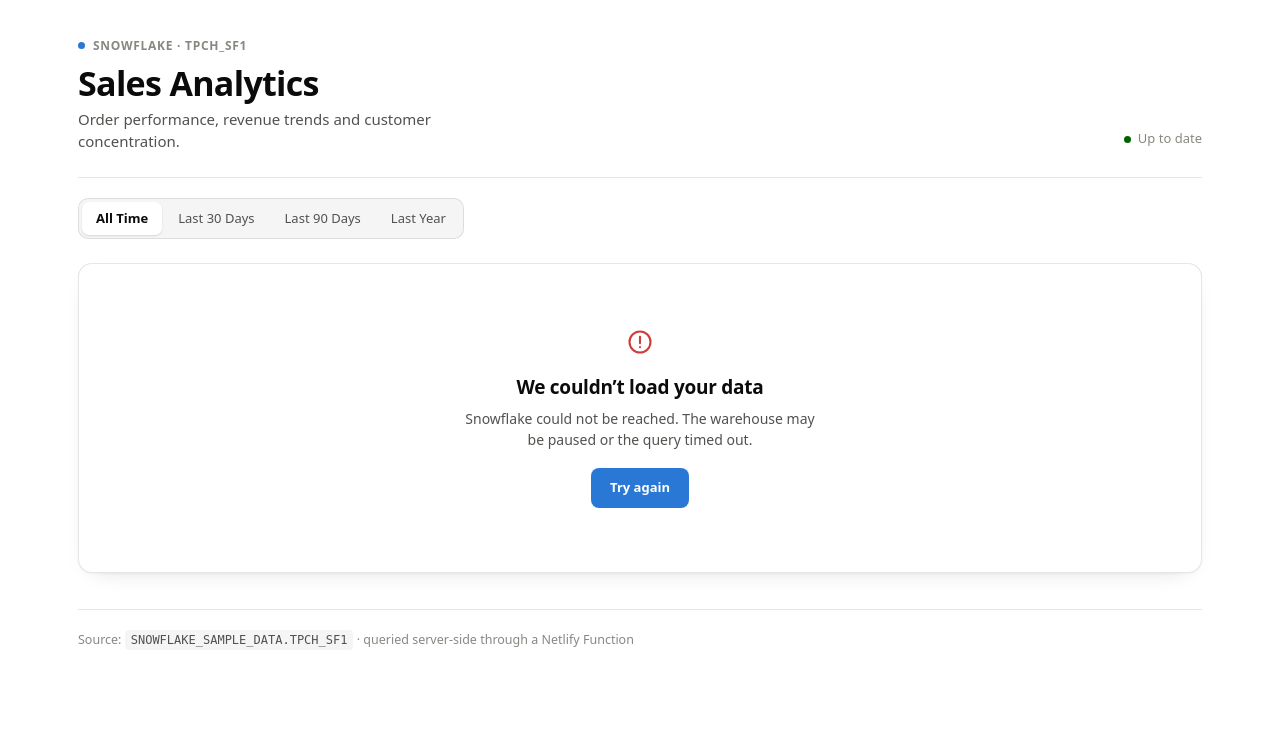
Scenario: App › error state › recovers when retry succeeds
Expected: the message is shown, top-left (78, 263), bottom-right (1202, 573)
Click the button "Try again": (640, 488) top-left (591, 468), bottom-right (689, 508)
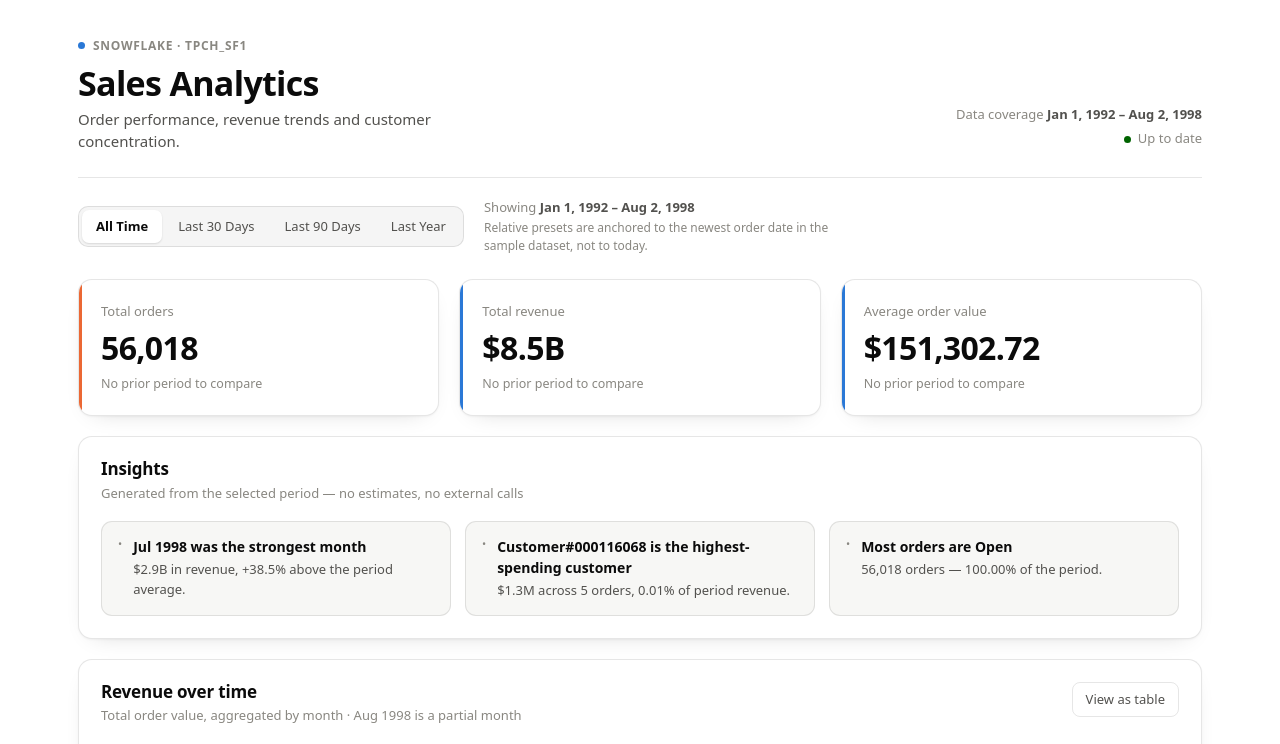
Expected: the message "We couldn’t load your data Snowflake could not be reached. The warehouse may be" is gone
